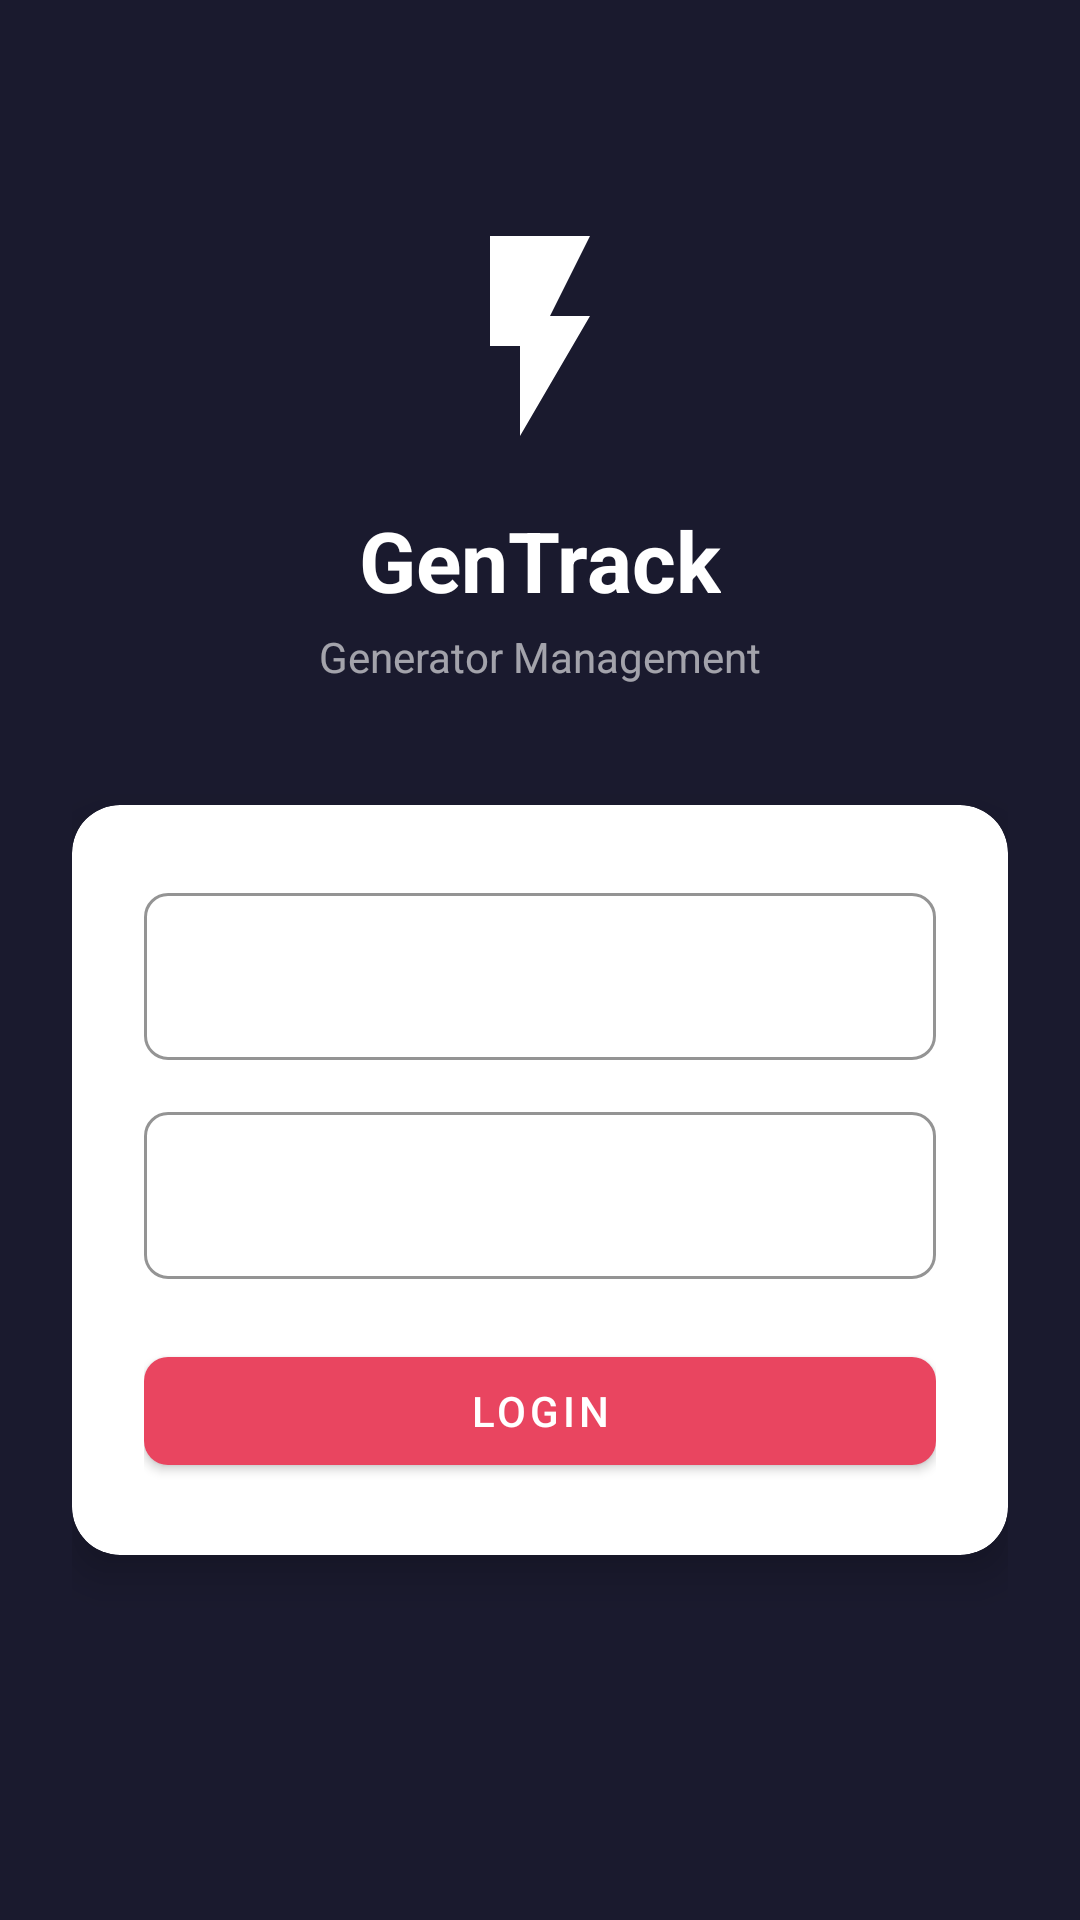

Screen size 1080x1920. Icon name, then its center in pixels as (x,y):
generator: (540,336)
